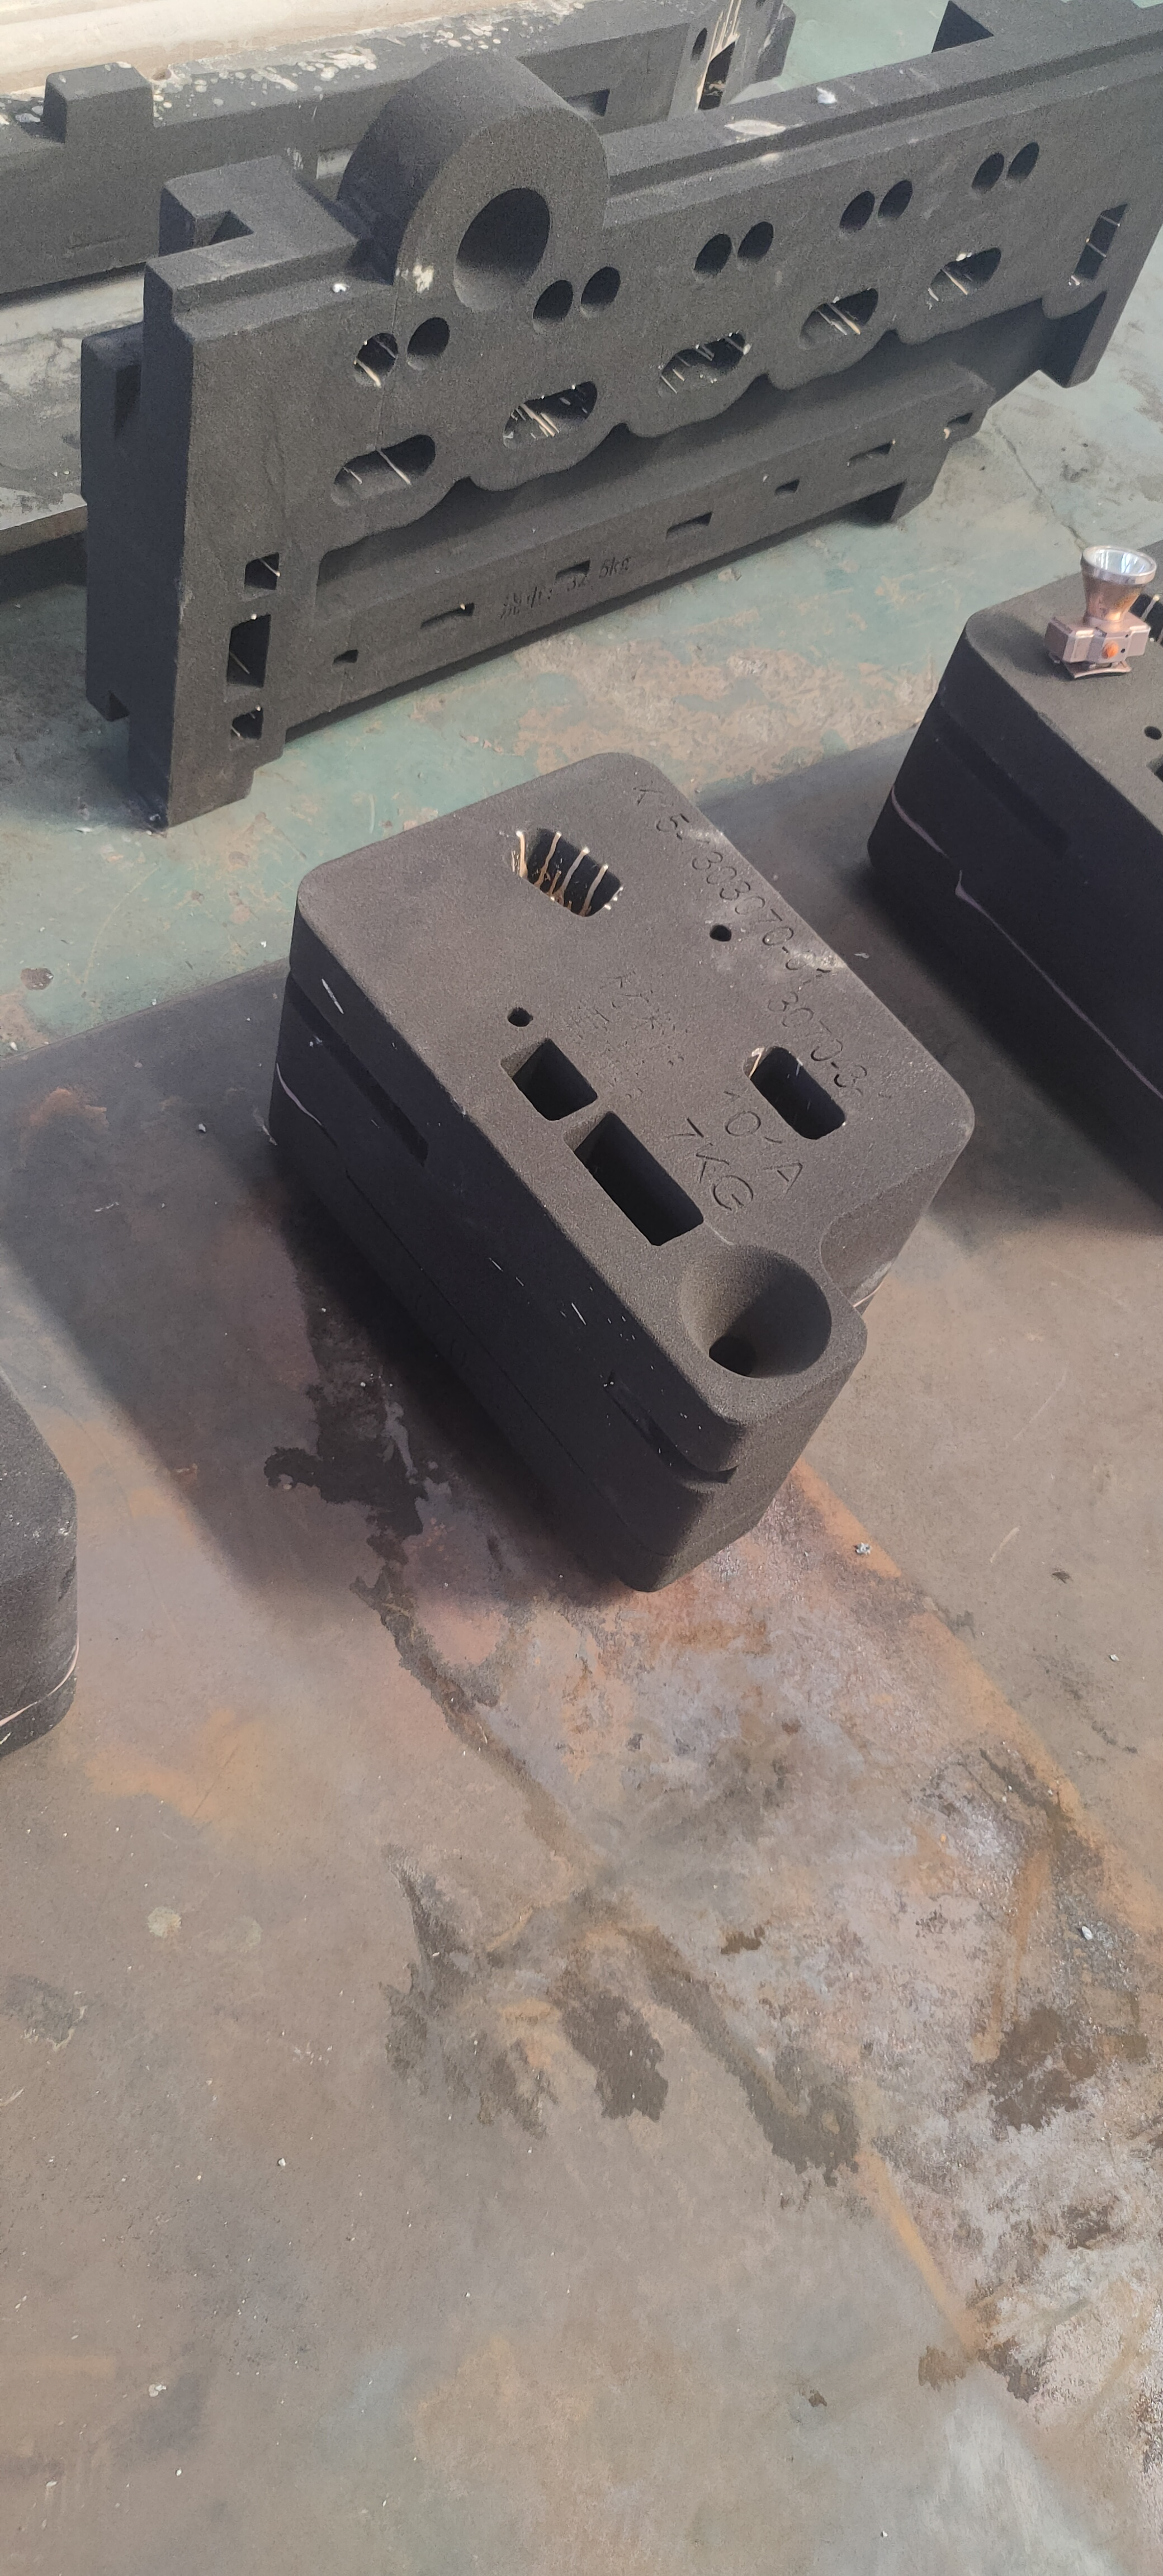pouring hole: (680, 1249, 831, 1377), (453, 187, 550, 306)
